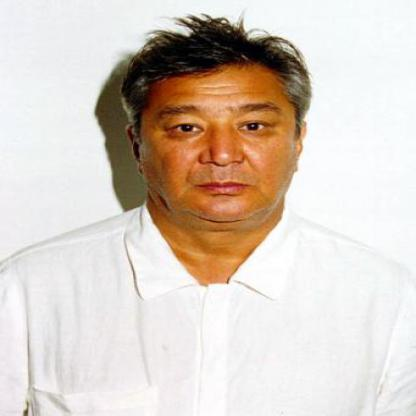face: (140, 40, 300, 227)
